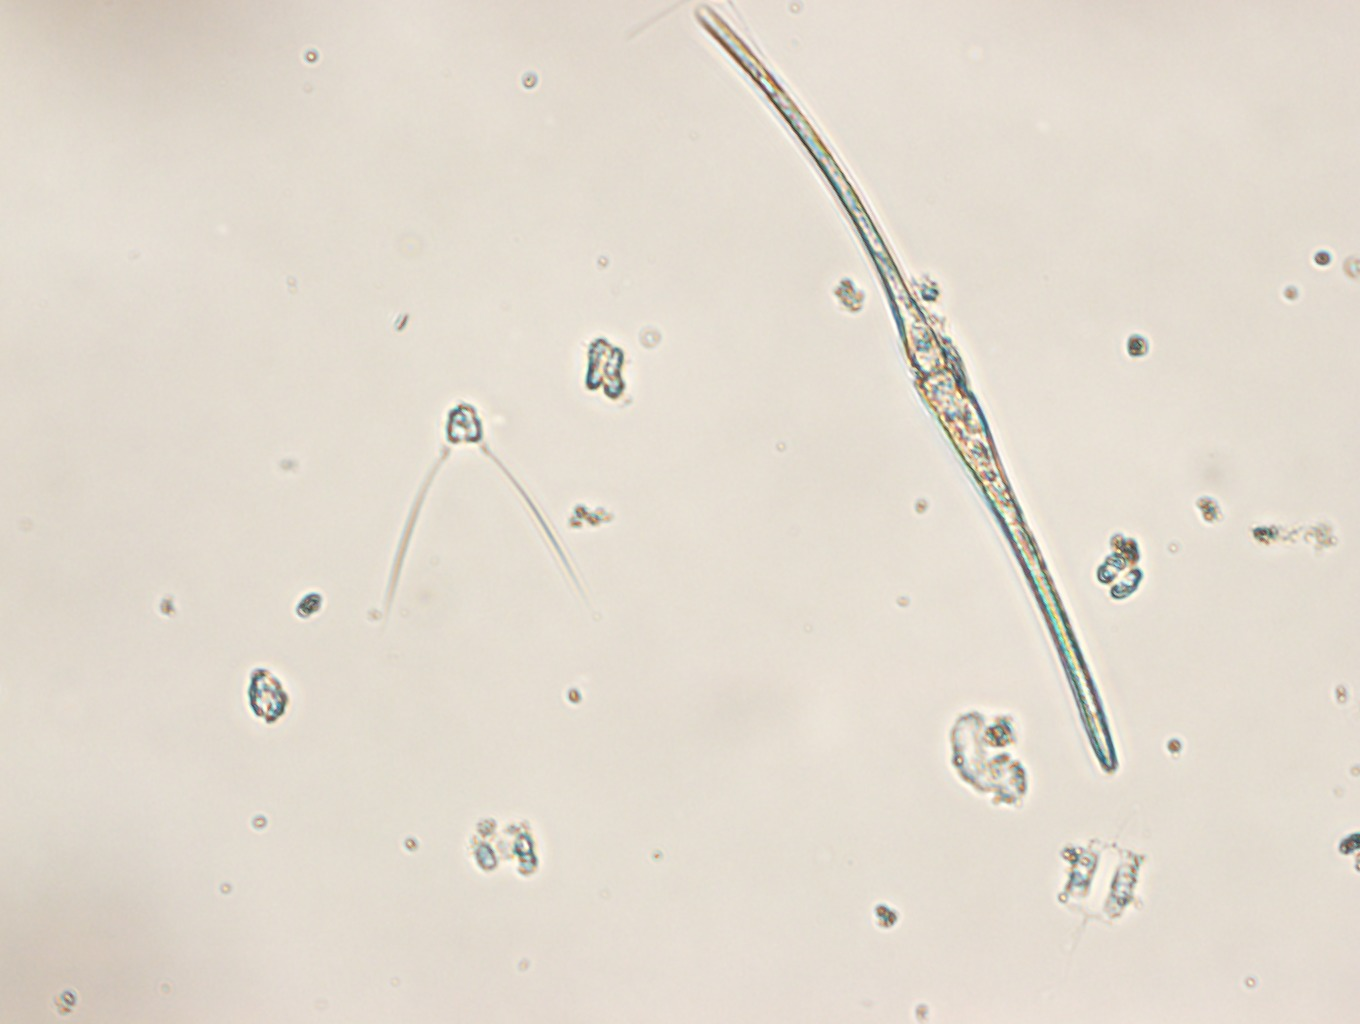ceratium fusus: (692, 5, 1117, 774)
